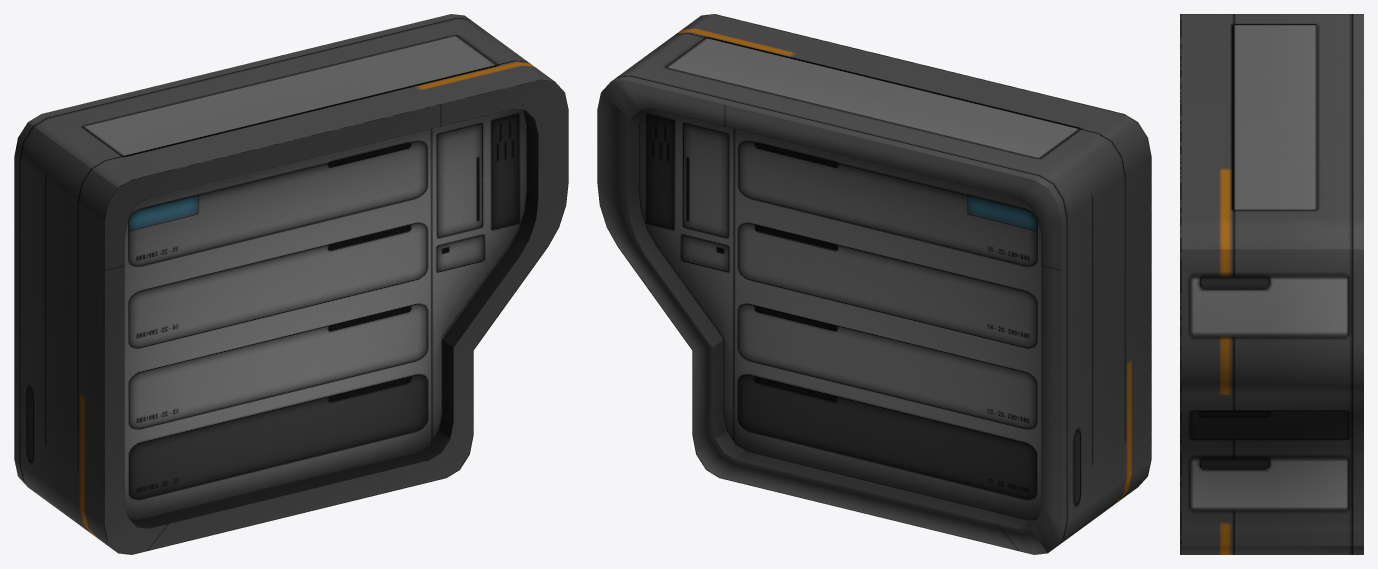
Rendered from Drawer.fbx.
3 renders of one model, left to right at view 1: azimuth 30°, elevation 25°; view 2: azimuth 150°, elevation 25°; view 3: azimuth 270°, elevation 25°, orthographic.
Visible parts, largest first — view 1: Drawer; view 2: Drawer; view 3: Drawer.
Part boxes in pixels (x1,y1,x2,y2): Drawer: [14, 14, 568, 554]; Drawer: [597, 14, 1151, 554]; Drawer: [1180, 14, 1363, 554].
Bounding box in the file's own units: 2.11 × 1.63 × 0.7101.
1 material, 1 textured.
